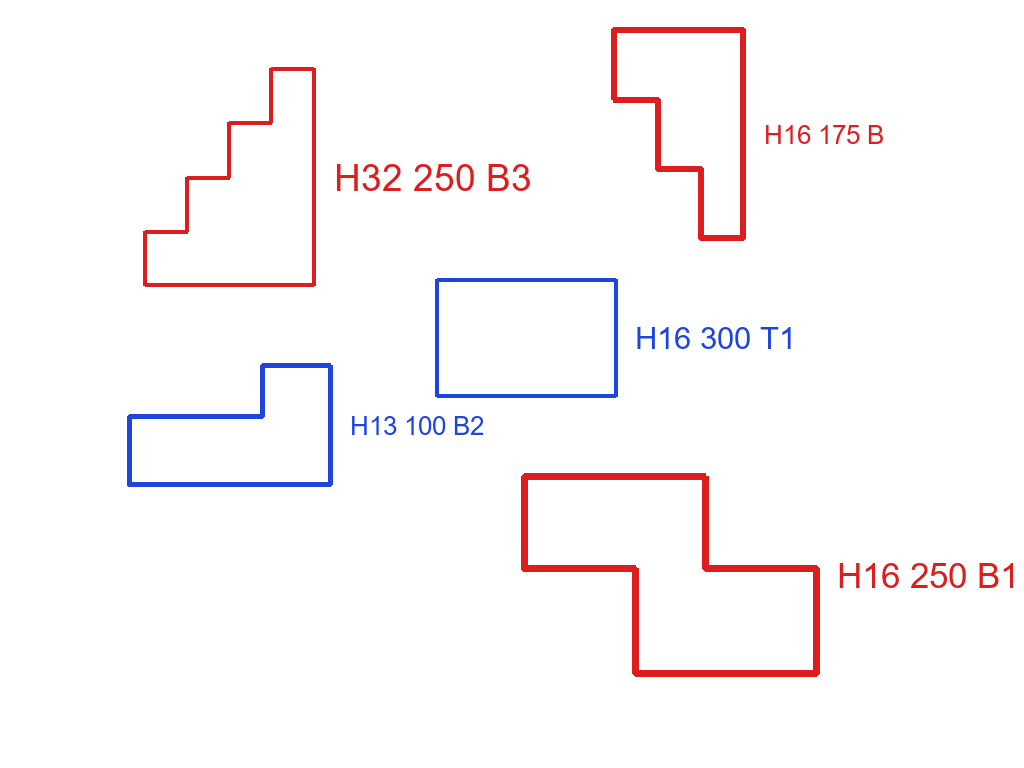shape: (519, 471, 822, 679), (141, 65, 318, 289), (609, 25, 749, 243), (125, 361, 335, 489), (434, 275, 619, 400)
text: (332, 162, 534, 193), (835, 561, 1021, 590), (633, 325, 798, 351), (348, 414, 486, 437), (762, 123, 886, 146)
